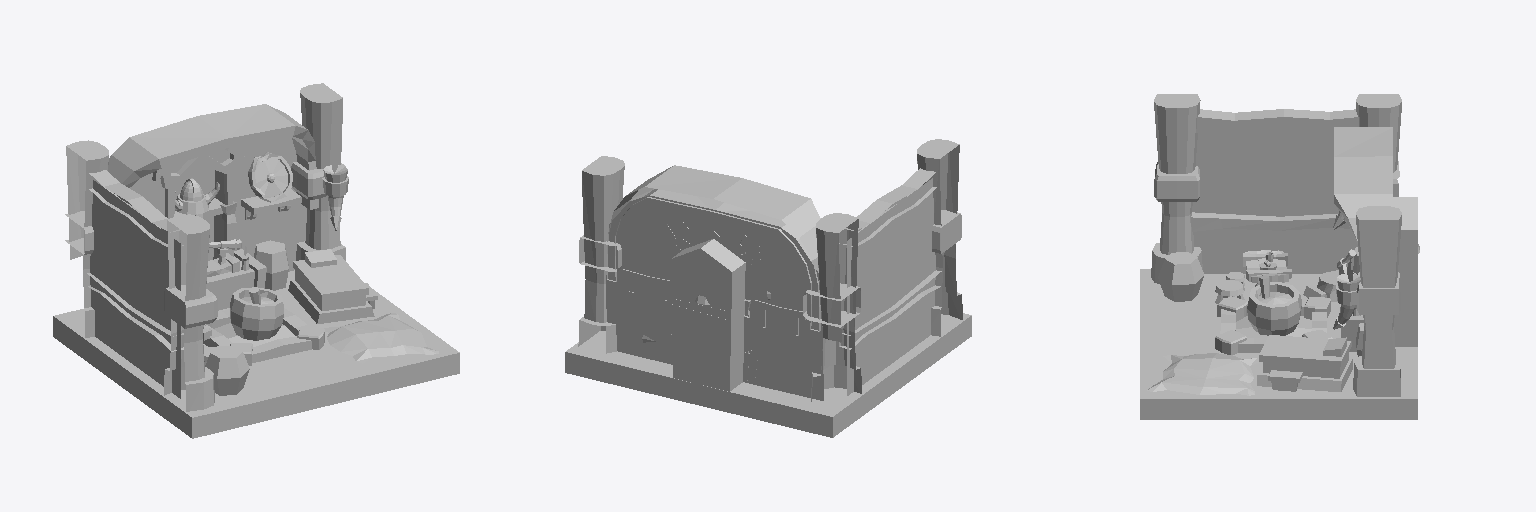
File: viking_room.obj
3 views of the same model, side by side, from view 1: azimuth 30°, elevation 25°; view 2: azimuth 150°, elevation 25°; view 3: azimuth 270°, elevation 25° (orthographic).
Parts seen in each view (by area): view 1: mesh_all1_Mesh; view 2: mesh_all1_Mesh; view 3: mesh_all1_Mesh.
Boxes of the visible parts, box(x1,y1,x2,y2) form: mesh_all1_Mesh: box(53, 83, 459, 438); mesh_all1_Mesh: box(565, 139, 971, 437); mesh_all1_Mesh: box(1140, 94, 1419, 419).
Size of the model in its own units: 26.31 by 18.6 by 23.91.